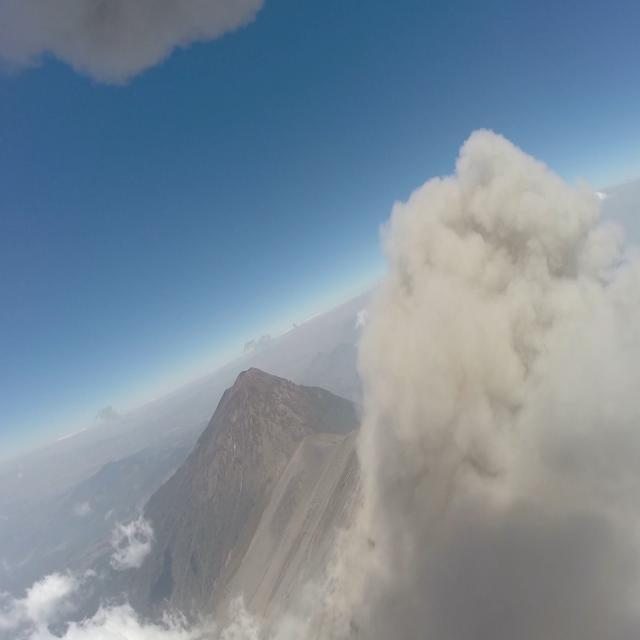Plume: (375, 119, 640, 640)
